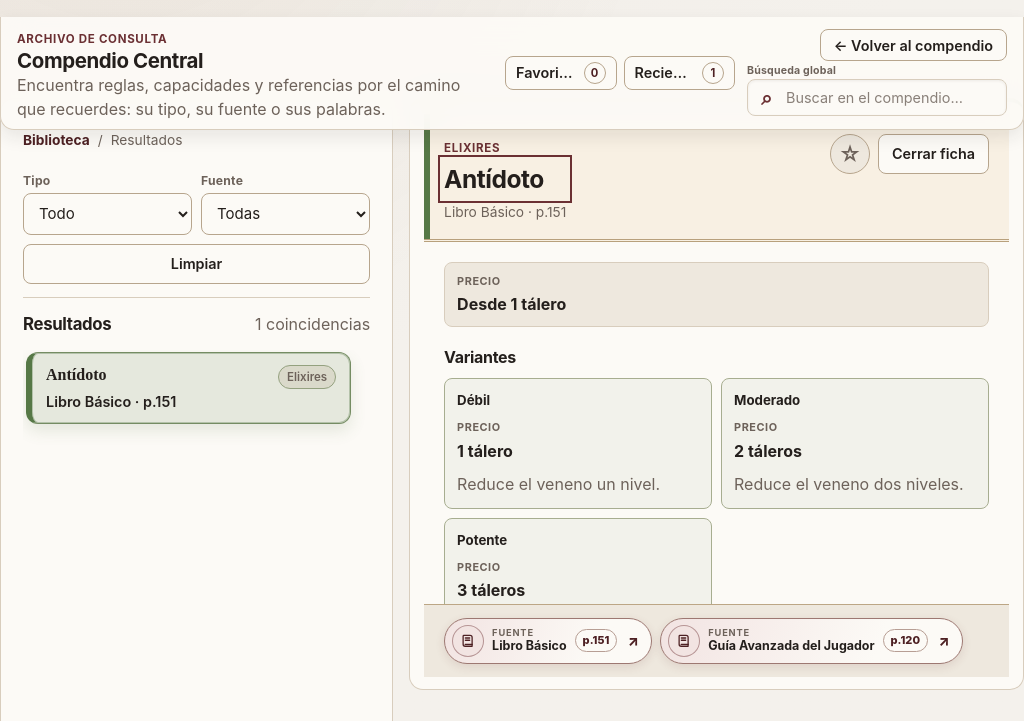
Test case: CompendiumView library › shows the equipment group and renders structured facts, variants and source links
Expected: the heading "Antídoto" is shown, [444, 164, 544, 194]
Expected: the element named "Datos de la entrada" reads "Precio Desde 1 tálero", [444, 262, 989, 327]
Click the button "← Volver al compendio": (913, 46) [820, 30, 1007, 62]
(page scrolled)
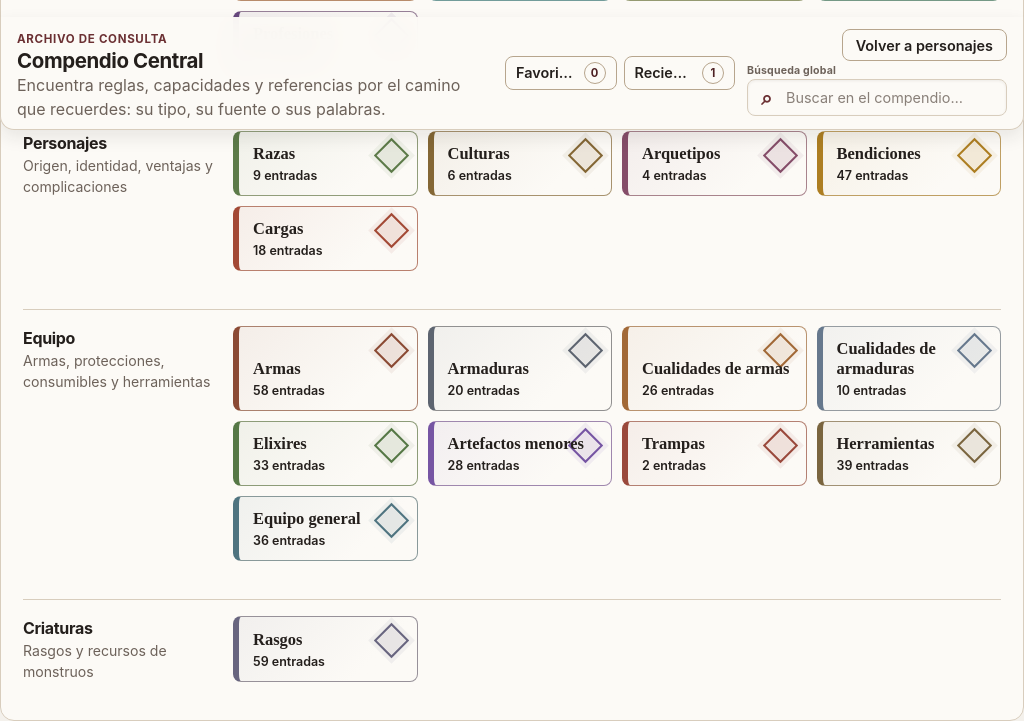
Result: the heading "Equipo" is shown at [23, 328, 75, 348]
Result: the button "Artefactos menores 28 entradas" is shown at [428, 421, 612, 486]
